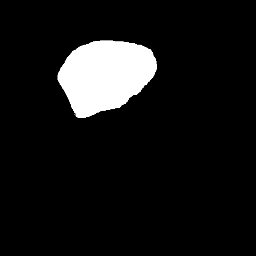mass: (62, 50, 155, 109)
